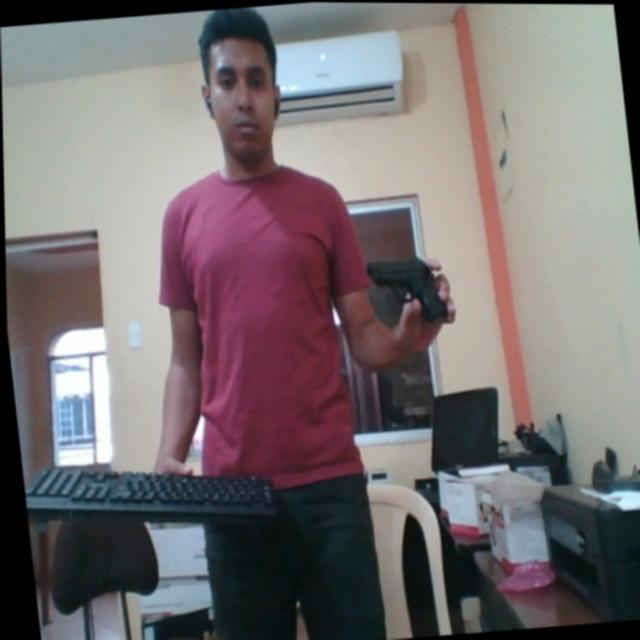weapon: (362, 250, 449, 330)
